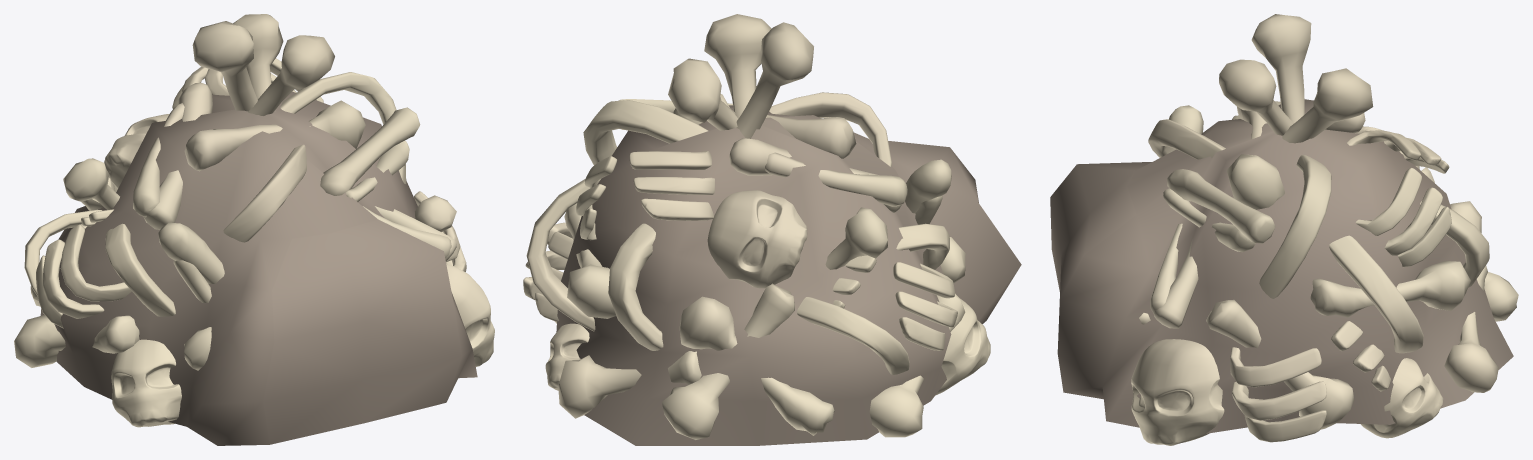
File: skeleton_cave.fbx
3 views of the same model, side by side, from view 1: azimuth 30°, elevation 25°; view 2: azimuth 150°, elevation 25°; view 3: azimuth 270°, elevation 25° (orthographic). The views are drawn at different scales.
Visible parts, largest first — view 1: skeleton_cave; view 2: skeleton_cave; view 3: skeleton_cave.
Part boxes in pixels (<box>): skeleton_cave: <box>14,14,494,445</box>; skeleton_cave: <box>523,14,1021,445</box>; skeleton_cave: <box>1050,14,1518,445</box>.
Size of the model in its own units: 20.72 by 17.27 by 20.81.
